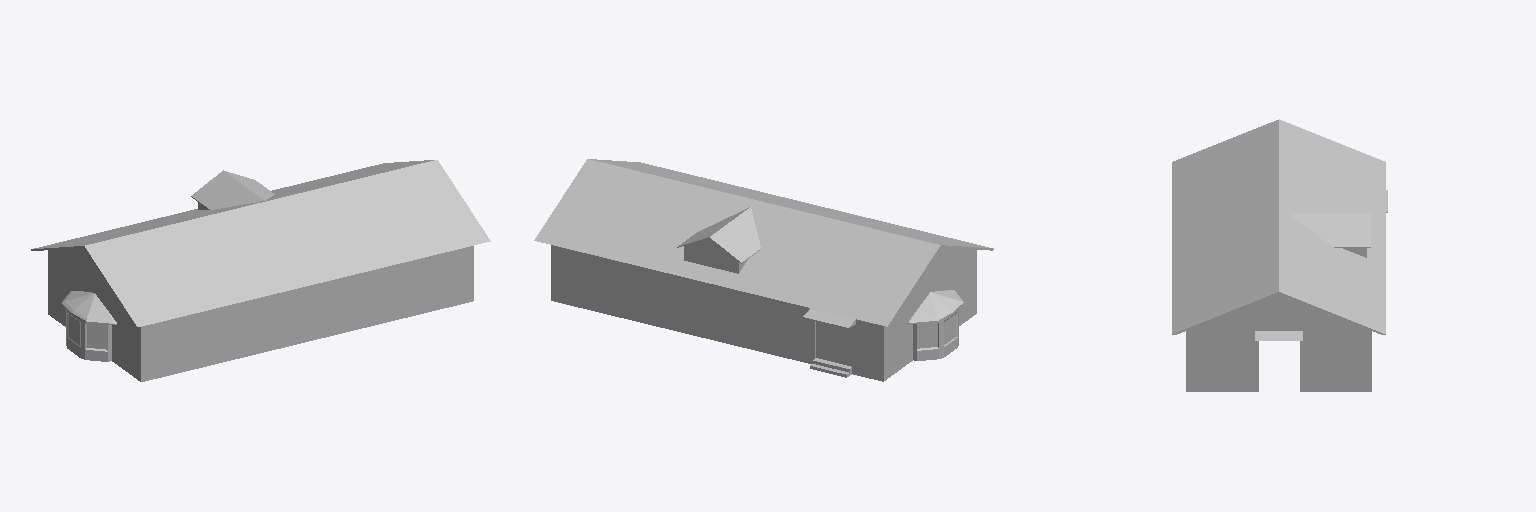
File: OutSideHouse.obj
3 renders of one model, left to right at view 1: azimuth 30°, elevation 25°; view 2: azimuth 150°, elevation 25°; view 3: azimuth 270°, elevation 25°, orthographic.
Visible parts, largest first — view 1: Cube; view 2: Cube; view 3: Cube.
Part boxes in pixels (left/top/right/bottom): Cube: left=31, top=160, right=490, bottom=381; Cube: left=534, top=159, right=993, bottom=381; Cube: left=1172, top=119, right=1387, bottom=391.
Size of the model in its own units: 33.72 by 9.16 by 17.02.